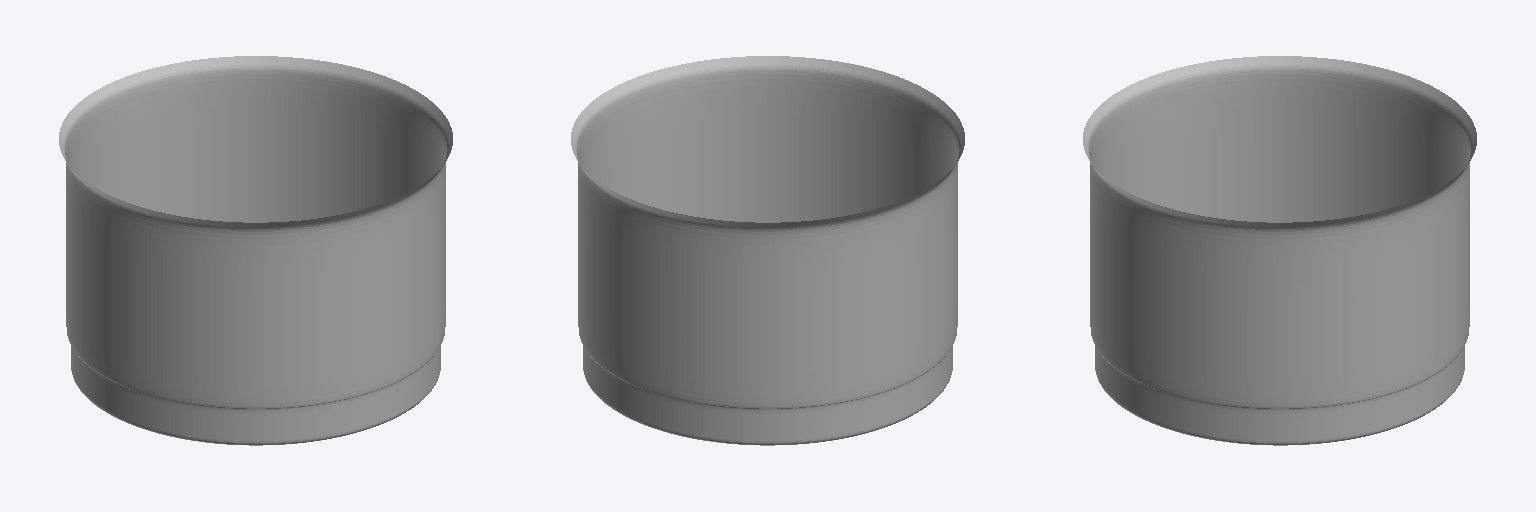
The model's file is PotBody.001_Cylinder.009.obj.
3 renders of one model, left to right at view 1: azimuth 30°, elevation 25°; view 2: azimuth 150°, elevation 25°; view 3: azimuth 270°, elevation 25°, orthographic.
Visible parts, largest first — view 1: PotBody.001_Cylinder.009; view 2: PotBody.001_Cylinder.009; view 3: PotBody.001_Cylinder.009.
Boxes of the visible parts, <box> form: PotBody.001_Cylinder.009: <box>59,56,452,445</box>; PotBody.001_Cylinder.009: <box>571,56,964,445</box>; PotBody.001_Cylinder.009: <box>1083,56,1476,445</box>.
Bounding box in the file's own units: 2.08 × 1.35 × 2.08.